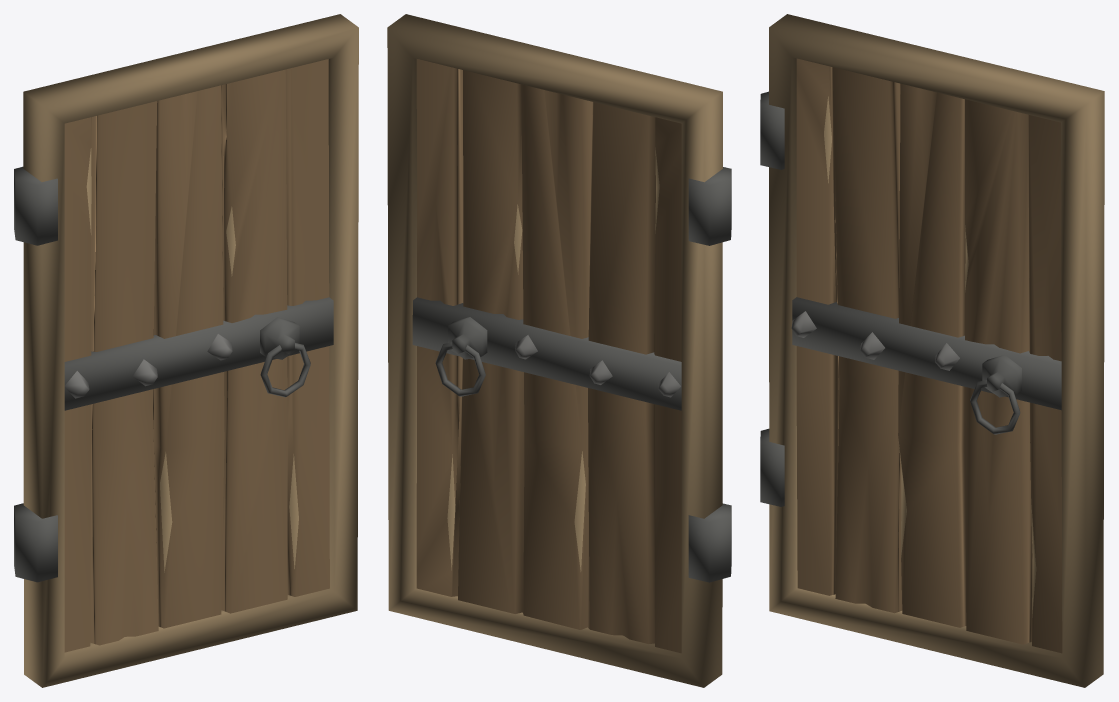
Rendered from rpgpp_ag_door_03a.fbx.
3 views of the same model, side by side, from view 1: azimuth 30°, elevation 25°; view 2: azimuth 150°, elevation 25°; view 3: azimuth 330°, elevation 25° (orthographic).
Visible parts, largest first — view 1: rpgpp_ag_door_03a; view 2: rpgpp_ag_door_03a; view 3: rpgpp_ag_door_03a.
Part boxes in pixels (<box>): rpgpp_ag_door_03a: <box>14,14,358,687</box>; rpgpp_ag_door_03a: <box>387,14,731,687</box>; rpgpp_ag_door_03a: <box>760,14,1104,687</box>.
Bounding box in the file's own units: 1.39 × 2.32 × 0.2949.
